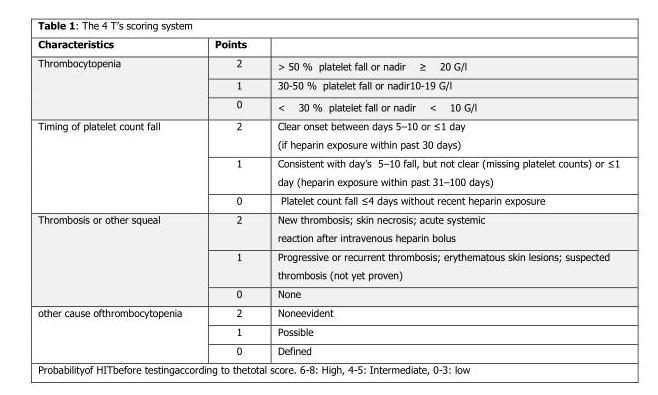table: (37, 37, 619, 355)
table column: (261, 37, 619, 355), (37, 37, 197, 355), (197, 37, 261, 355)
table column header: (37, 37, 619, 52)
table row: (37, 115, 619, 153), (37, 153, 619, 190), (37, 209, 619, 246), (37, 246, 619, 283), (37, 52, 619, 74), (37, 93, 619, 115), (37, 74, 619, 93), (37, 190, 619, 209), (37, 283, 619, 302), (37, 302, 619, 321), (37, 321, 619, 340), (37, 37, 619, 52), (37, 340, 619, 355)
table spanning cell: (37, 115, 197, 209), (37, 209, 197, 302), (37, 52, 197, 115), (37, 302, 197, 355)
